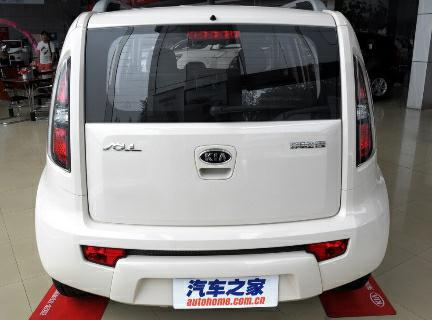起亚-秀尔: (30, 2, 395, 315)
